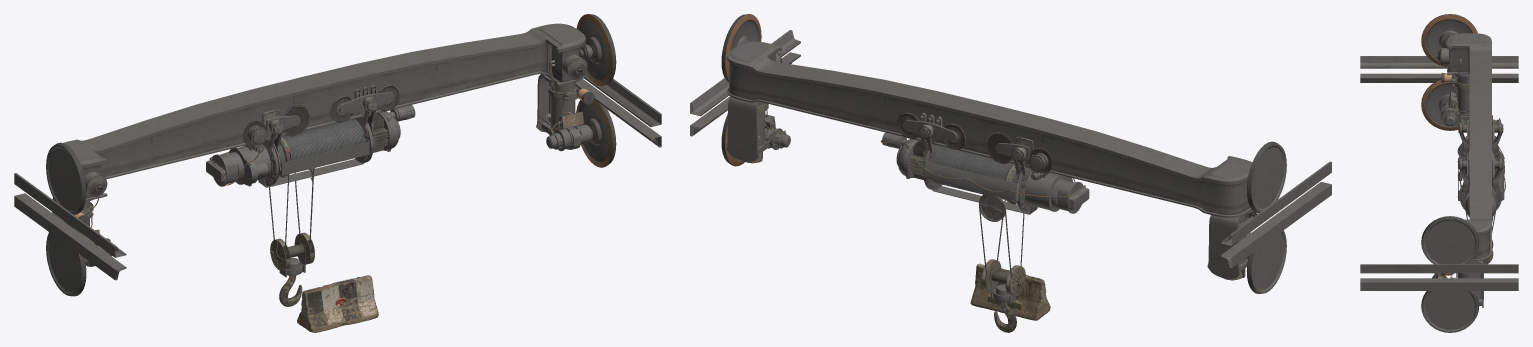
File: zone-dock-rail-kit.glb
3 renders of one model, left to right at view 1: azimuth 30°, elevation 25°; view 2: azimuth 150°, elevation 25°; view 3: azimuth 270°, elevation 25°, orthographic. The views are drawn at different scales.
Visible parts, largest first — view 1: overhead_crane, overhead_crane_winch, overhead_crane_rails, concrete_road_barrier; view 2: overhead_crane, overhead_crane_winch, overhead_crane_rails, concrete_road_barrier; view 3: overhead_crane, overhead_crane_rails, overhead_crane_winch.
Boxes of the visible parts, x1,y1,x2,y2 form: overhead_crane: [46, 14, 616, 296]; overhead_crane_winch: [206, 84, 415, 306]; overhead_crane_rails: [14, 74, 661, 280]; concrete_road_barrier: [297, 275, 378, 332]; overhead_crane: [721, 14, 1286, 293]; overhead_crane_winch: [880, 112, 1089, 332]; overhead_crane_rails: [690, 30, 1331, 268]; concrete_road_barrier: [970, 263, 1050, 320]; overhead_crane: [1421, 14, 1491, 332]; overhead_crane_rails: [1360, 56, 1518, 290]; overhead_crane_winch: [1457, 115, 1505, 264].
Bounding box in the file's own units: 12.49 × 5.13 × 4.
Materials: 7 (7 with a texture image).
